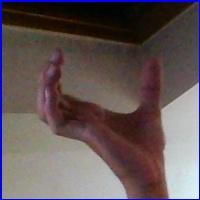space: (29, 41, 179, 161)
